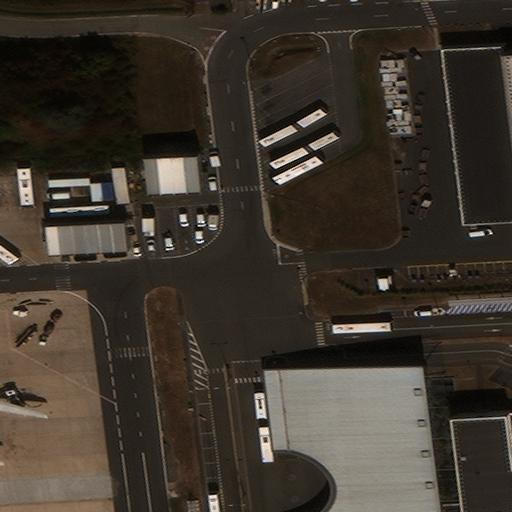Medium Civil Transport: (0, 382, 43, 450)
